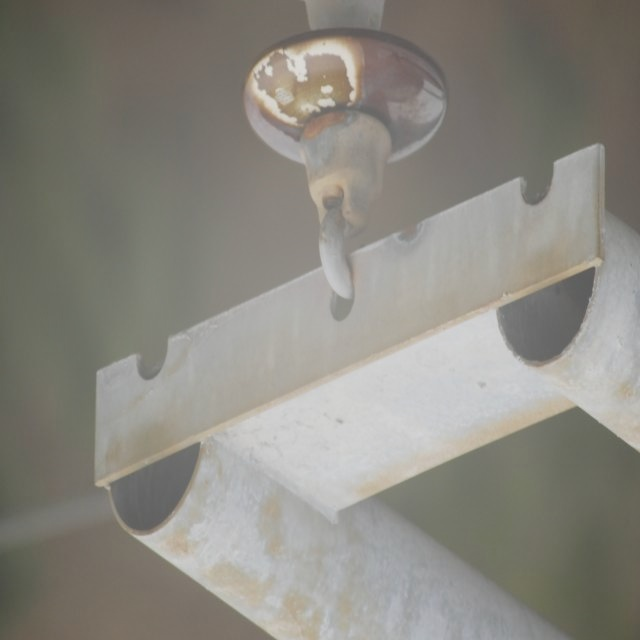insulator: (240, 30, 450, 167)
